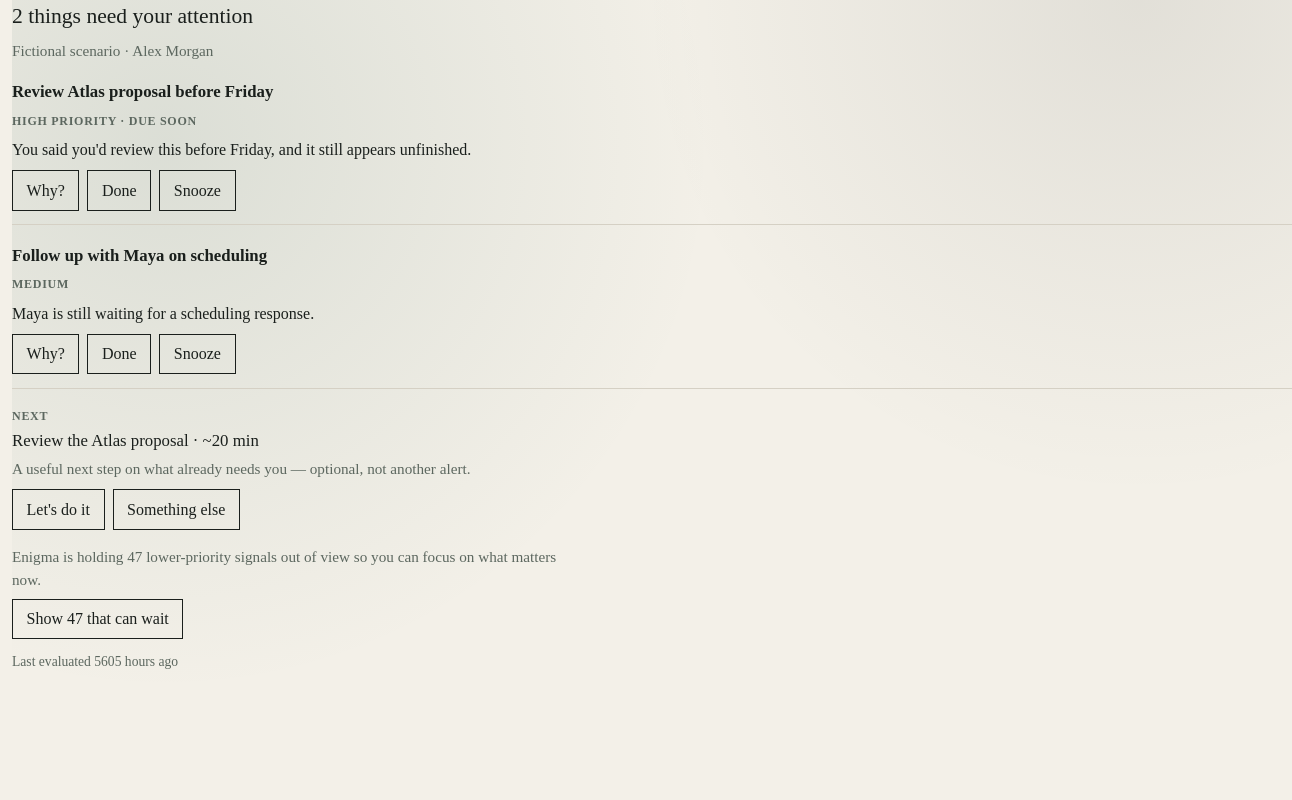
Test: Demo chrome stubs › AttentionDashboard Done removes an item via stub action
Expected: the text "Review Atlas proposal before Friday" is shown, [12,82,273,101]
Click the button "Done" below "Review Atlas proposal before Friday": click(119, 190) [87,170,151,211]
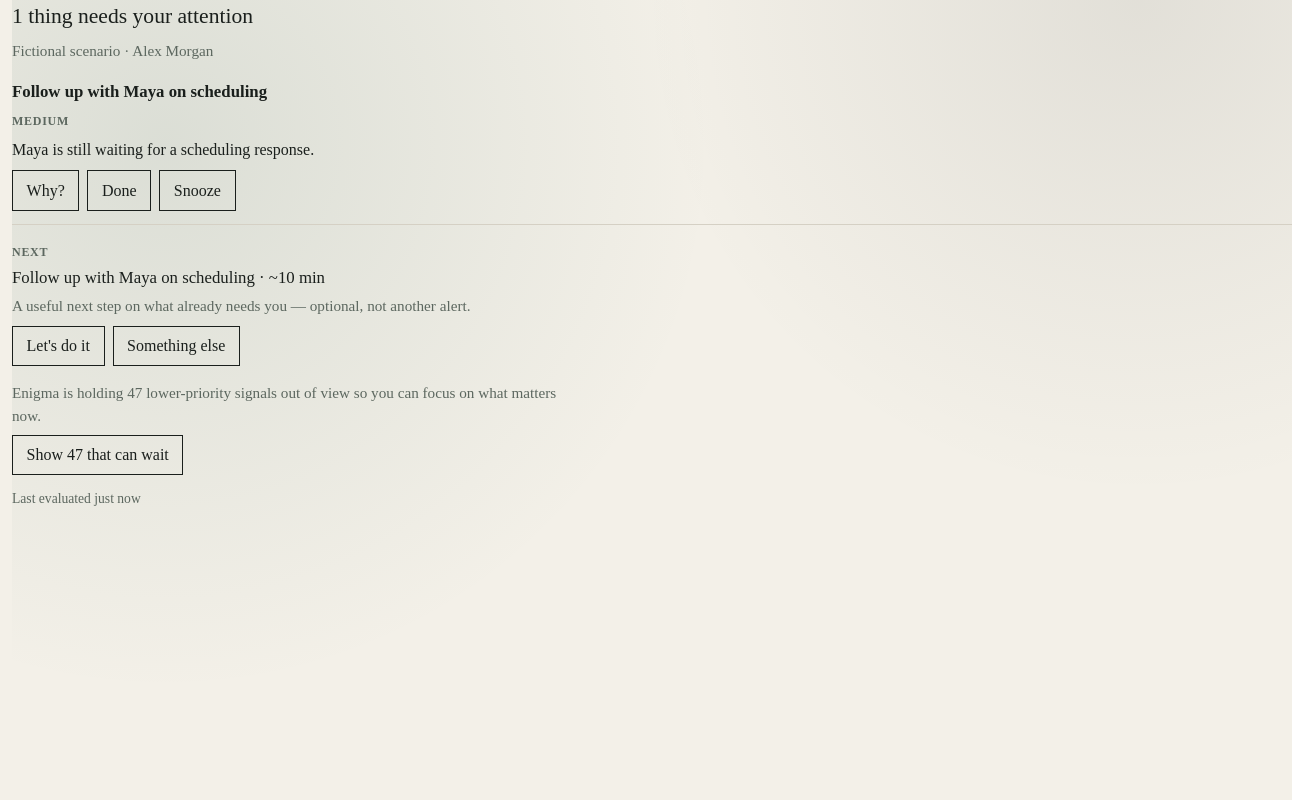
Expected: the text "MEDIUM" is shown, [12,114,69,128]
Expected: the text "Review Atlas proposal before Friday" is gone
Expected: the text with test id "attention-next-line" shows "Follow up with Maya", [12,268,325,286]
